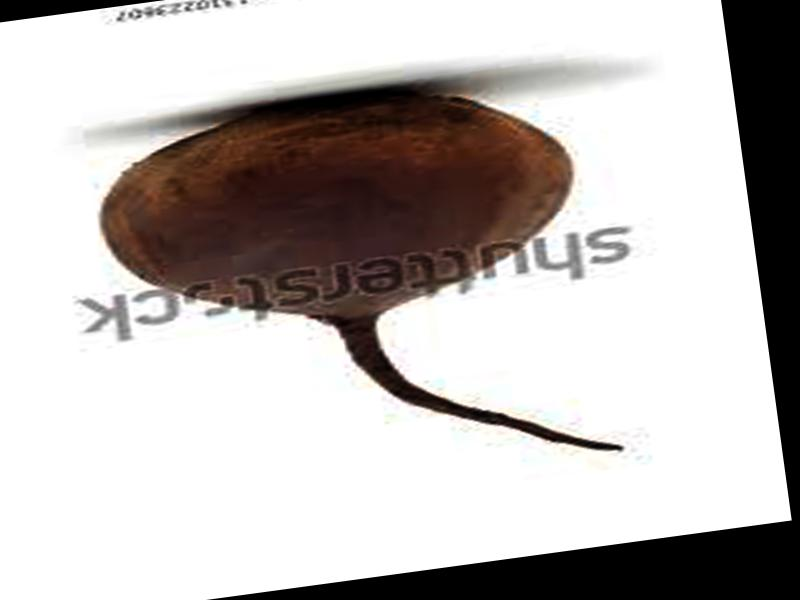Beet: (82, 62, 621, 516)
